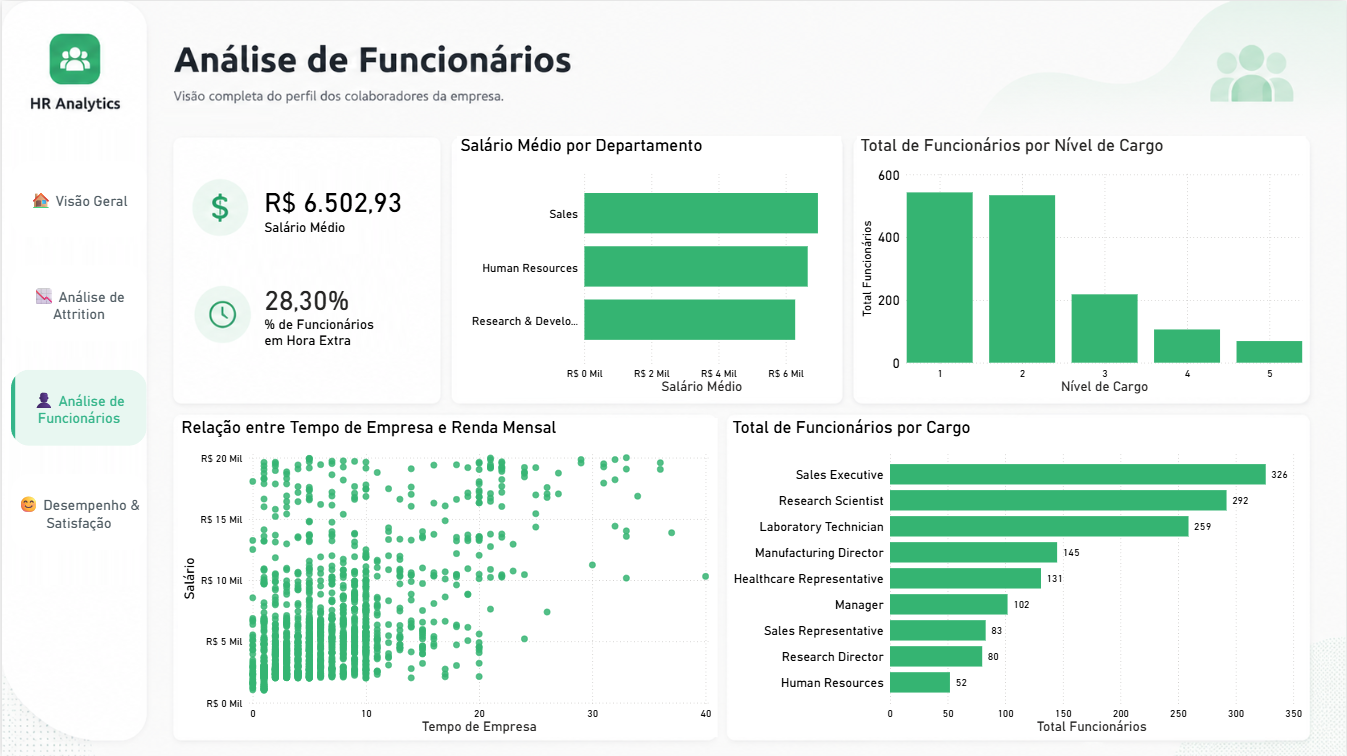

Layout of this report page (visuals, bound fields, positions):
{"tool":"powerbi","page":{"name":"👤 Análise de Funcionários","canvas":[1920,1080],"ordinal":2},"visuals":[{"type":"cardVisual","fields":{"Data":["Tabela.Salário Médio"]},"box":[345.7,192.9,278.6,214.3],"z":0},{"type":"barChart","title":"Salário Médio por Departamento","fields":{"Y":["Medidas.Salário Médio"],"Category":["Human_Resources.Department"]},"box":[650,192.9,548.6,372.9],"z":1000},{"type":"columnChart","title":"Total de Funcionários por Nível de Cargo","fields":{"Y":["Medidas.Total Funcionários"],"Category":["Human_Resources.JobLevel"]},"box":[1221.4,192.9,641.4,372.9],"z":2000},{"type":"scatterChart","title":"Relação entre Tempo de Empresa e Renda Mensal","fields":{"X":["Sum(Human_Resources.YearsAtCompany)"],"Y":["Sum(Human_Resources.MonthlyIncome)"],"Category":["Human_Resources.EmployeeNumber"]},"box":[251.4,595.7,771.4,455.7],"z":3000},{"type":"barChart","title":"Total de Funcionários por Cargo","fields":{"Y":["Medidas.Total Funcionários"],"Category":["Human_Resources.JobRole"]},"box":[1038.6,595.7,824.3,455.7],"z":4000},{"type":"cardVisual","fields":{"Data":["Medidas.% Funcionários Overtime"]},"box":[345.7,334.3,220,231.4],"z":5000},{"type":"pageNavigator","box":[12.9,228.6,194.3,558.6],"z":6000}]}

Visuals, with their boxes on the page's 1920x1080 design canvas (x1, y1, x2, y2). These are canvas units, not pixel positions in the 1347x756 screenshot, which may show the page scaled, cropped or inside an application window:
cardVisual - Tabela.Salário Médio: bbox=(346, 193, 624, 407)
"Salário Médio por Departamento" barChart: bbox=(650, 193, 1199, 566)
"Total de Funcionários por Nível de Cargo" columnChart: bbox=(1221, 193, 1863, 566)
"Relação entre Tempo de Empresa e Renda Mensal" scatterChart: bbox=(251, 596, 1023, 1051)
"Total de Funcionários por Cargo" barChart: bbox=(1039, 596, 1863, 1051)
cardVisual - Medidas.% Funcionários Overtime: bbox=(346, 334, 566, 566)
pageNavigator: bbox=(13, 229, 207, 787)
